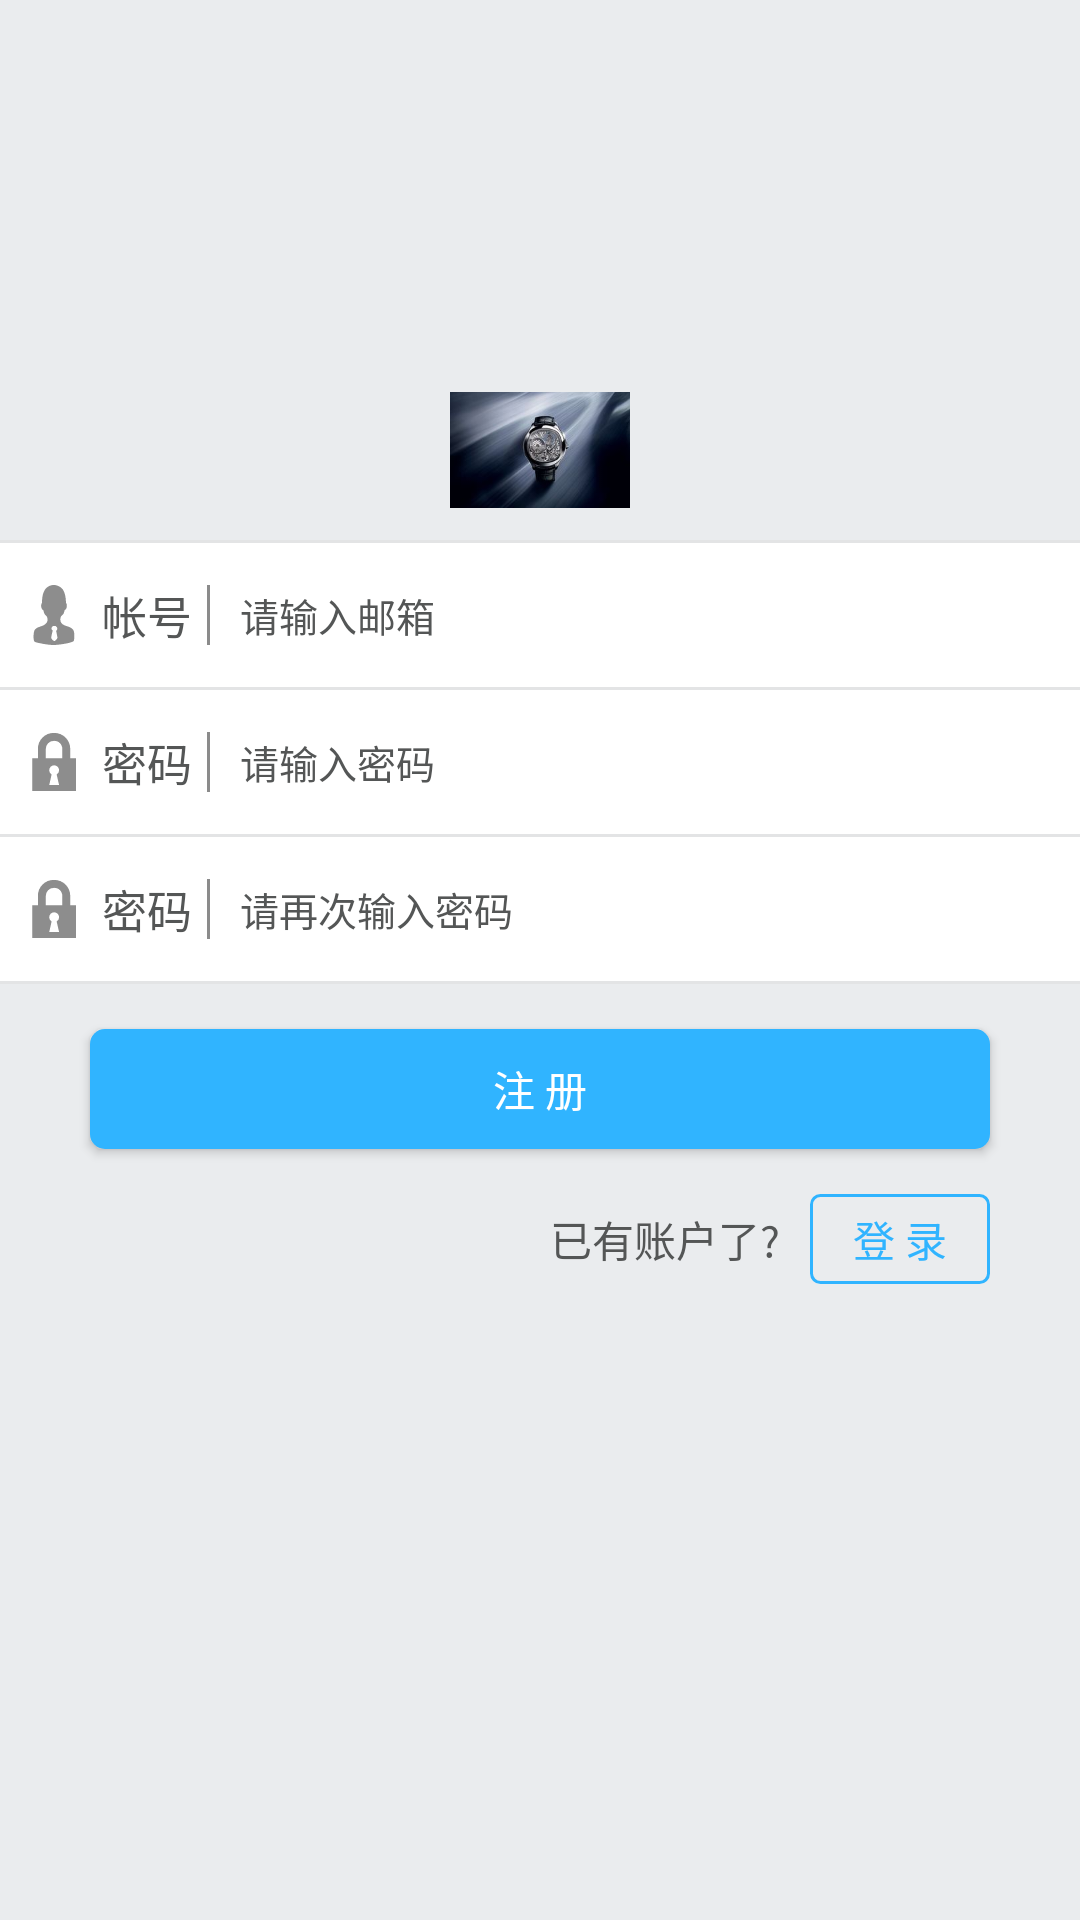

Locate icon controls on the screen. Image size 1080*1920, boxes as (x1, y1, x2, y2).
watch: (450, 392, 630, 508)
